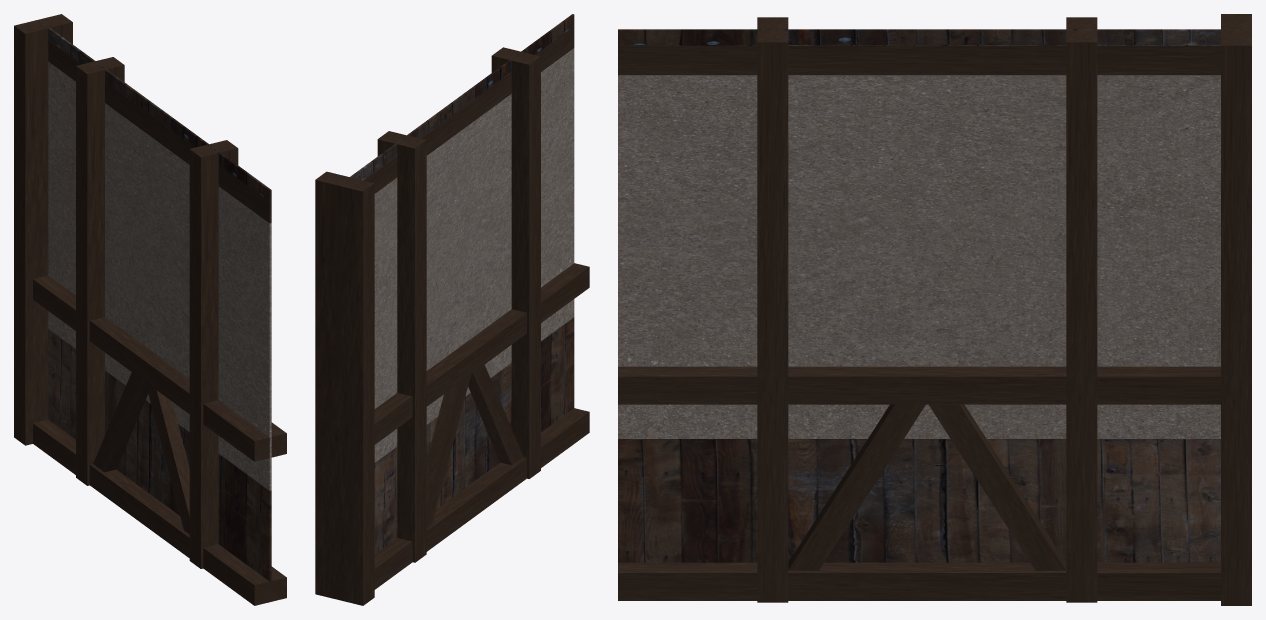
Rendered from OutdoorArchitecture_BasicWall02_RightEdge_BShortt.fbx.
3 renders of one model, left to right at view 1: azimuth 30°, elevation 25°; view 2: azimuth 150°, elevation 25°; view 3: azimuth 270°, elevation 25°, orthographic. The views are drawn at different scales.
Visible parts, largest first — view 1: OutdoorArchitecture_BasicWall02_RightEdge_BShortt; view 2: OutdoorArchitecture_BasicWall02_RightEdge_BShortt; view 3: OutdoorArchitecture_BasicWall02_RightEdge_BShortt.
Boxes of the visible parts, left/top/right/bottom form: OutdoorArchitecture_BasicWall02_RightEdge_BShortt: left=14, top=14, right=286, bottom=605; OutdoorArchitecture_BasicWall02_RightEdge_BShortt: left=315, top=14, right=589, bottom=605; OutdoorArchitecture_BasicWall02_RightEdge_BShortt: left=618, top=14, right=1251, bottom=605.
Size of the model in its own units: 36.37 by 300 by 308.
